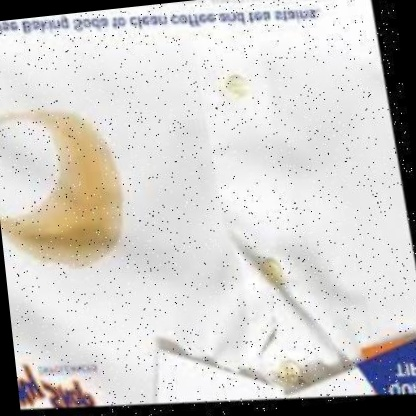coffee: (56, 122, 131, 269), (15, 213, 68, 266)
